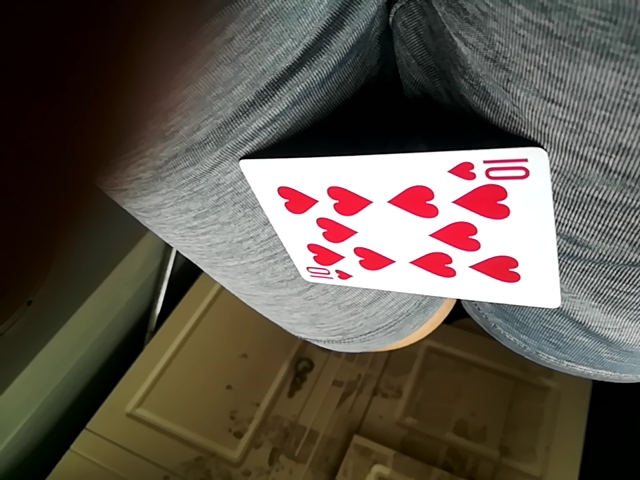hx 10: (239, 149, 557, 305)
